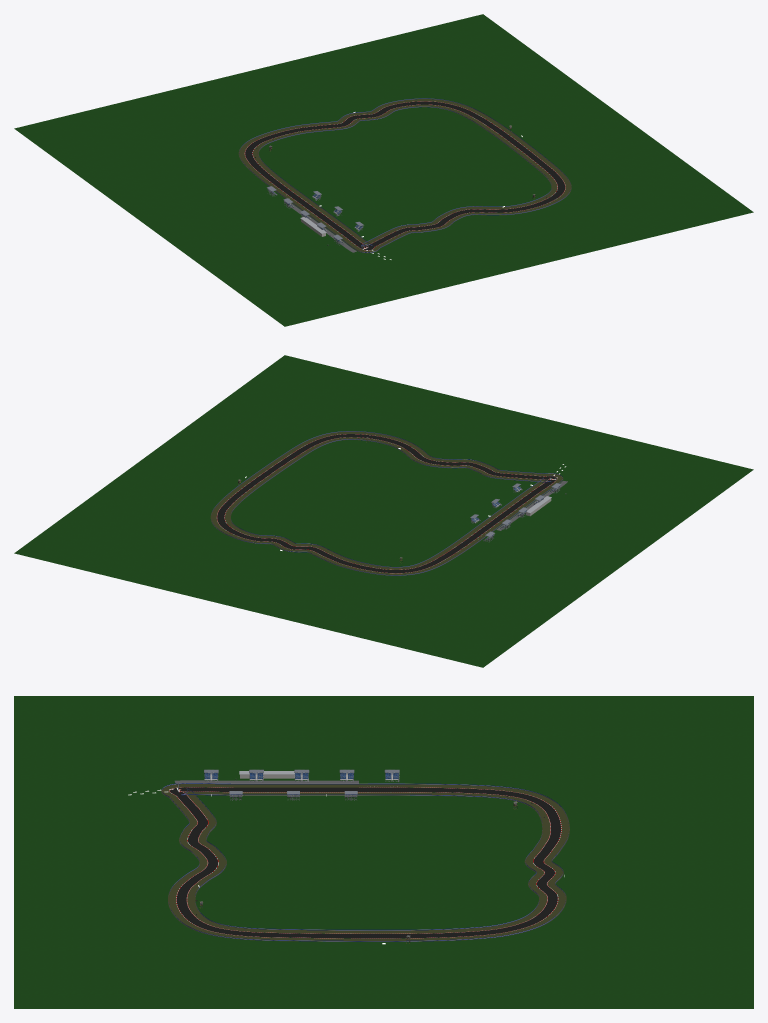
File: apex_circuit.glb
The picture shows the model from 3 angles, top to bottom: view 1: azimuth 30°, elevation 25°; view 2: azimuth 150°, elevation 25°; view 3: azimuth 270°, elevation 25°; orthographic projection. The views are drawn at different scales.
Visible parts, largest first — view 1: GrassGround, COL_Road, RunoffInner, RunoffOuter, COL_BarrierInner, COL_BarrierOuter, KerbInner, KerbOuter; view 2: GrassGround, COL_Road, RunoffInner, RunoffOuter, COL_BarrierInner, COL_BarrierOuter, KerbInner, KerbOuter; view 3: GrassGround, COL_Road, RunoffInner, RunoffOuter, COL_BarrierInner, COL_BarrierOuter, KerbOuter, KerbInner, PitLane.
Boxes of the visible parts, x1,y1,x2,y2 form: GrassGround: [14, 14, 753, 326]; COL_Road: [245, 101, 565, 250]; RunoffInner: [238, 99, 571, 253]; RunoffOuter: [253, 104, 557, 245]; COL_BarrierInner: [239, 98, 571, 252]; COL_BarrierOuter: [258, 106, 551, 246]; KerbInner: [244, 101, 565, 250]; KerbOuter: [252, 104, 557, 247]; GrassGround: [14, 355, 753, 667]; COL_Road: [217, 434, 556, 572]; RunoffInner: [210, 431, 563, 575]; RunoffOuter: [225, 437, 547, 569]; COL_BarrierInner: [211, 431, 562, 575]; COL_BarrierOuter: [230, 439, 551, 567]; KerbInner: [216, 434, 557, 573]; KerbOuter: [224, 437, 550, 569]; GrassGround: [14, 696, 753, 1008]; COL_Road: [170, 787, 560, 938]; RunoffInner: [161, 784, 569, 941]; RunoffOuter: [183, 792, 550, 933]; COL_BarrierInner: [161, 783, 569, 941]; COL_BarrierOuter: [181, 788, 542, 930]; KerbOuter: [179, 790, 550, 933]; KerbInner: [169, 787, 561, 938]; PitLane: [174, 780, 358, 783].
Bounding box in the file's own units: 900 × 11.74 × 900.
Materials: 20 (12 with a texture image).
